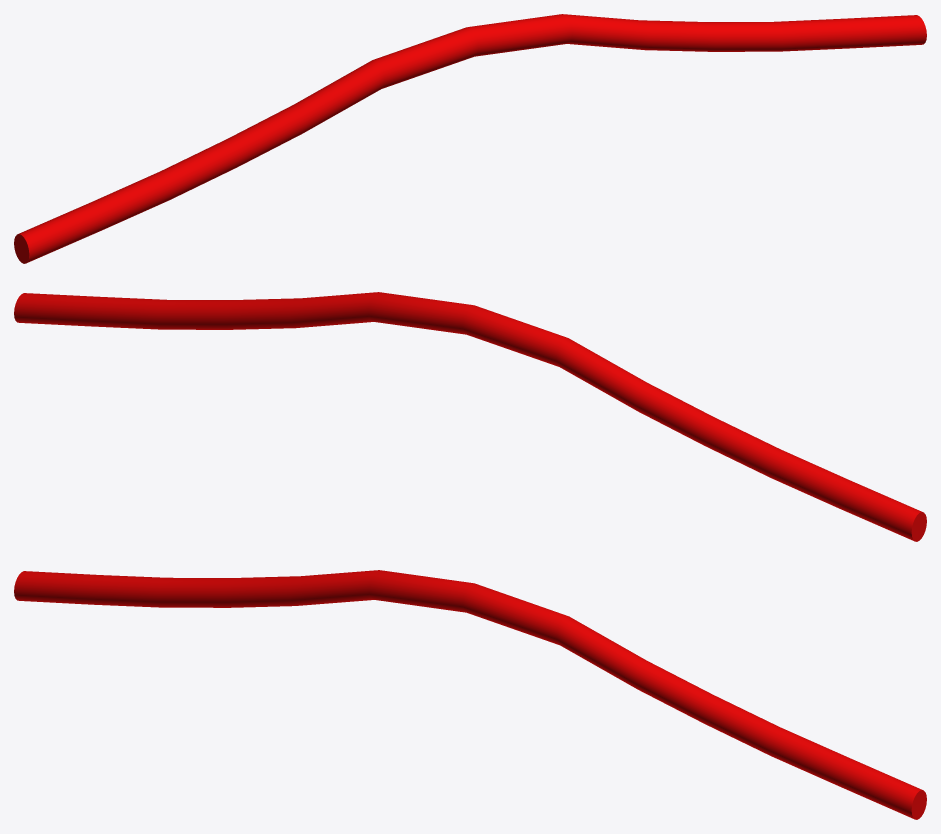
File: TrainTrack_Color.fbx
3 renders of one model, top to bottom at view 1: azimuth 30°, elevation 25°; view 2: azimuth 150°, elevation 25°; view 3: azimuth 330°, elevation 25°, orthographic.
Parts seen in each view (by area): view 1: pCylinder1; view 2: pCylinder1; view 3: pCylinder1.
Part boxes in pixels (box(x1,y1,x2,y2)): pCylinder1: box(14, 14, 926, 263); pCylinder1: box(14, 292, 926, 541); pCylinder1: box(14, 570, 926, 819).
Bounding box in the file's own units: 67.69 × 9.02 × 2.
